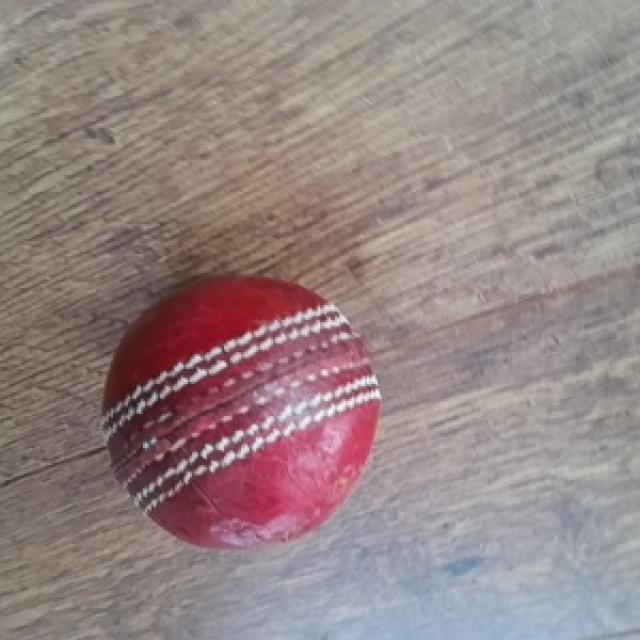ball: (96, 268, 384, 554)
